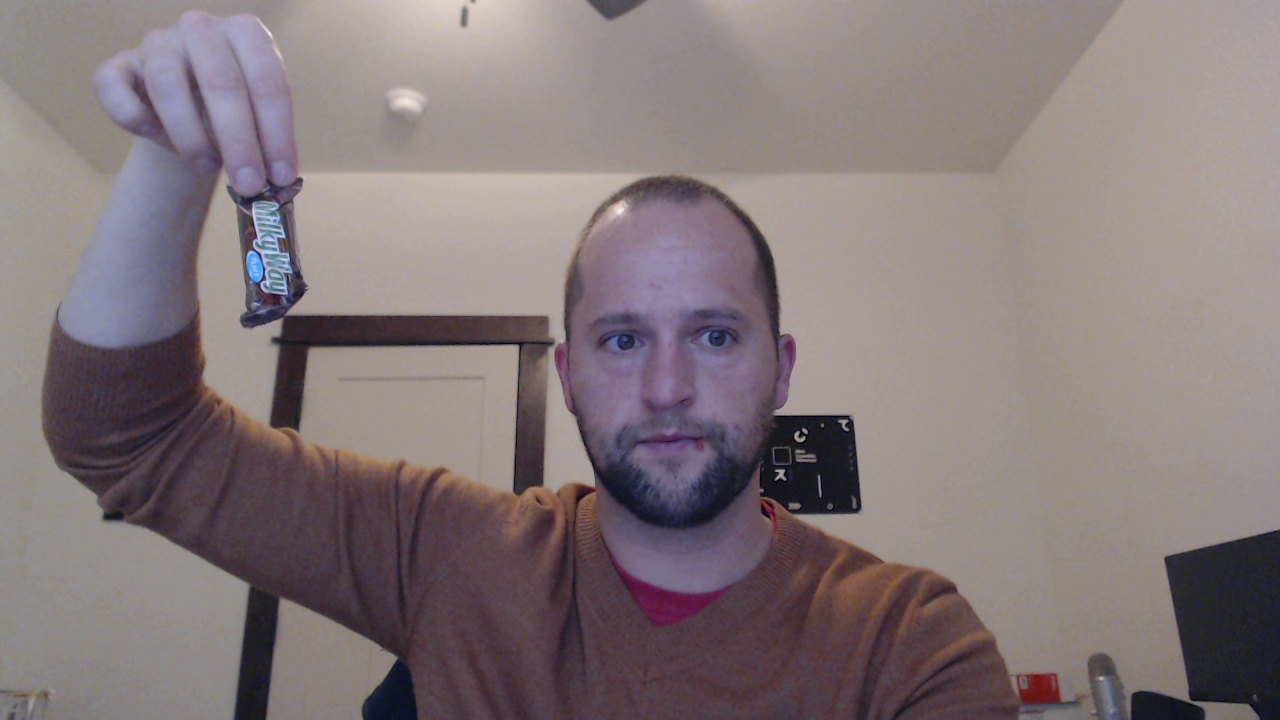milky_way: (214, 162, 329, 326)
